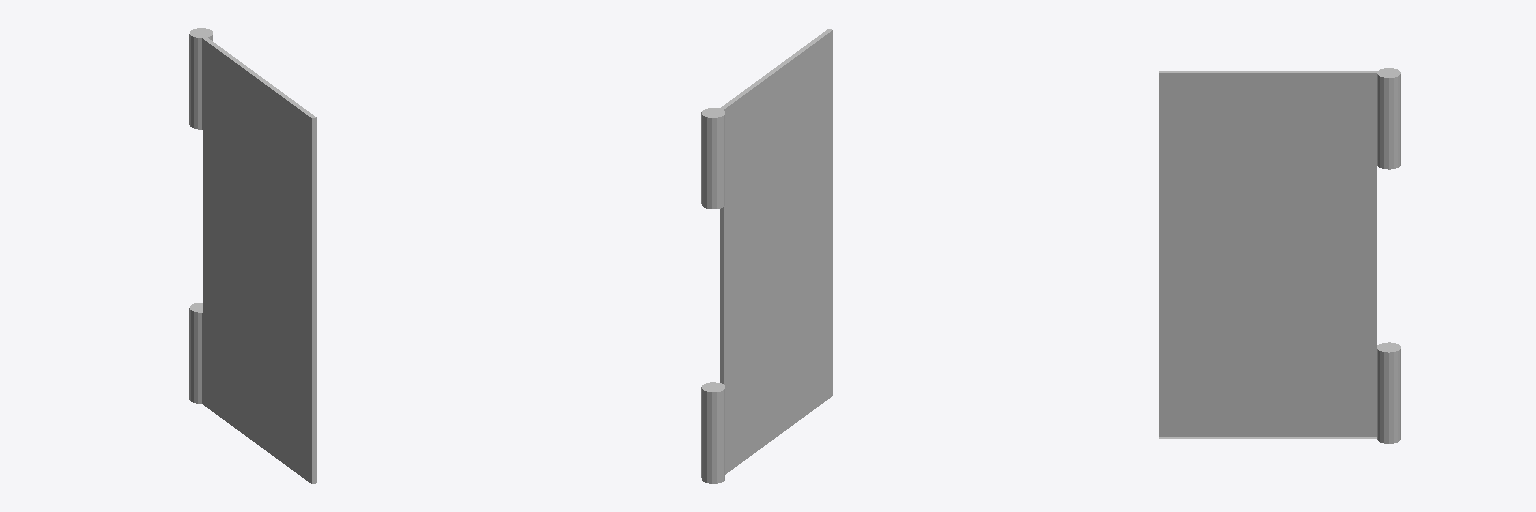
The model's file is sgc_door_hinge_frame.obj.
The picture shows the model from 3 angles: view 1: azimuth 30°, elevation 25°; view 2: azimuth 150°, elevation 25°; view 3: azimuth 270°, elevation 25°; orthographic projection.
Visible parts, largest first — view 1: Hinge_Frame_Low; view 2: Hinge_Frame_Low; view 3: Hinge_Frame_Low.
Part boxes in pixels (left/top/right/bottom): Hinge_Frame_Low: left=189, top=28, right=316, bottom=483; Hinge_Frame_Low: left=701, top=29, right=832, bottom=483; Hinge_Frame_Low: left=1159, top=68, right=1400, bottom=443.
Size of the model in its own units: 0.0076 by 0.127 by 0.0762.